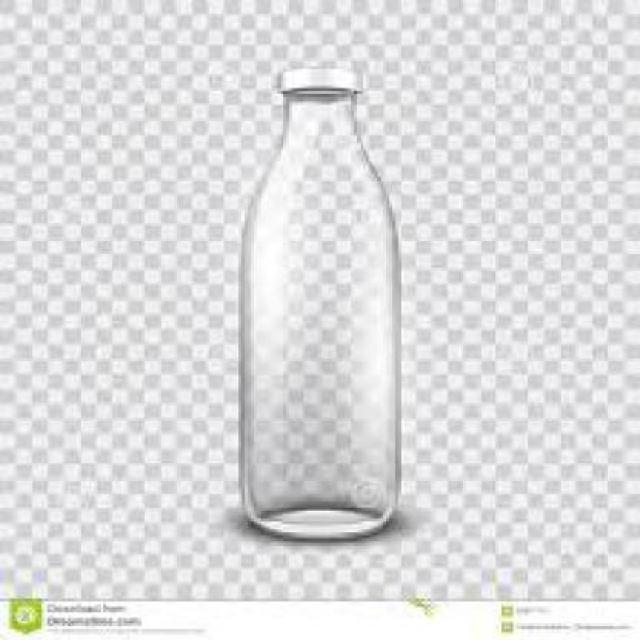kaca: (235, 88, 398, 535)
